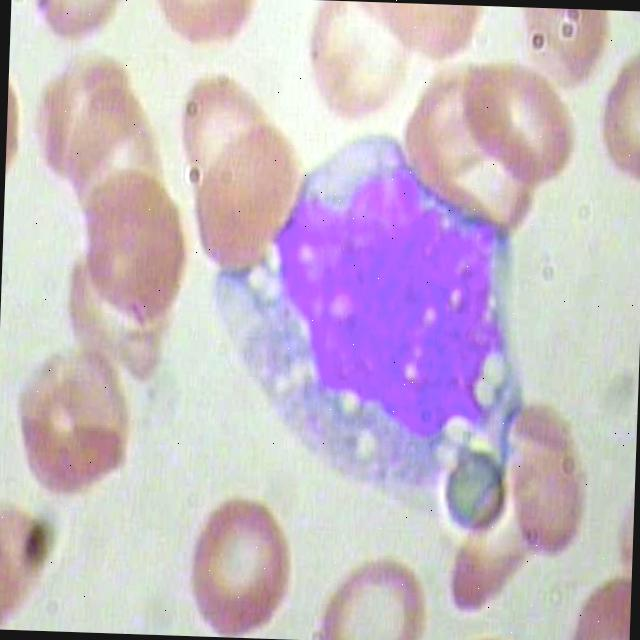RBC: (174, 118, 310, 284), (10, 342, 138, 508), (177, 480, 304, 640), (452, 45, 587, 193), (77, 170, 195, 333), (499, 406, 593, 570), (314, 556, 427, 640), (29, 0, 126, 46)
WBC: (188, 124, 544, 514)
